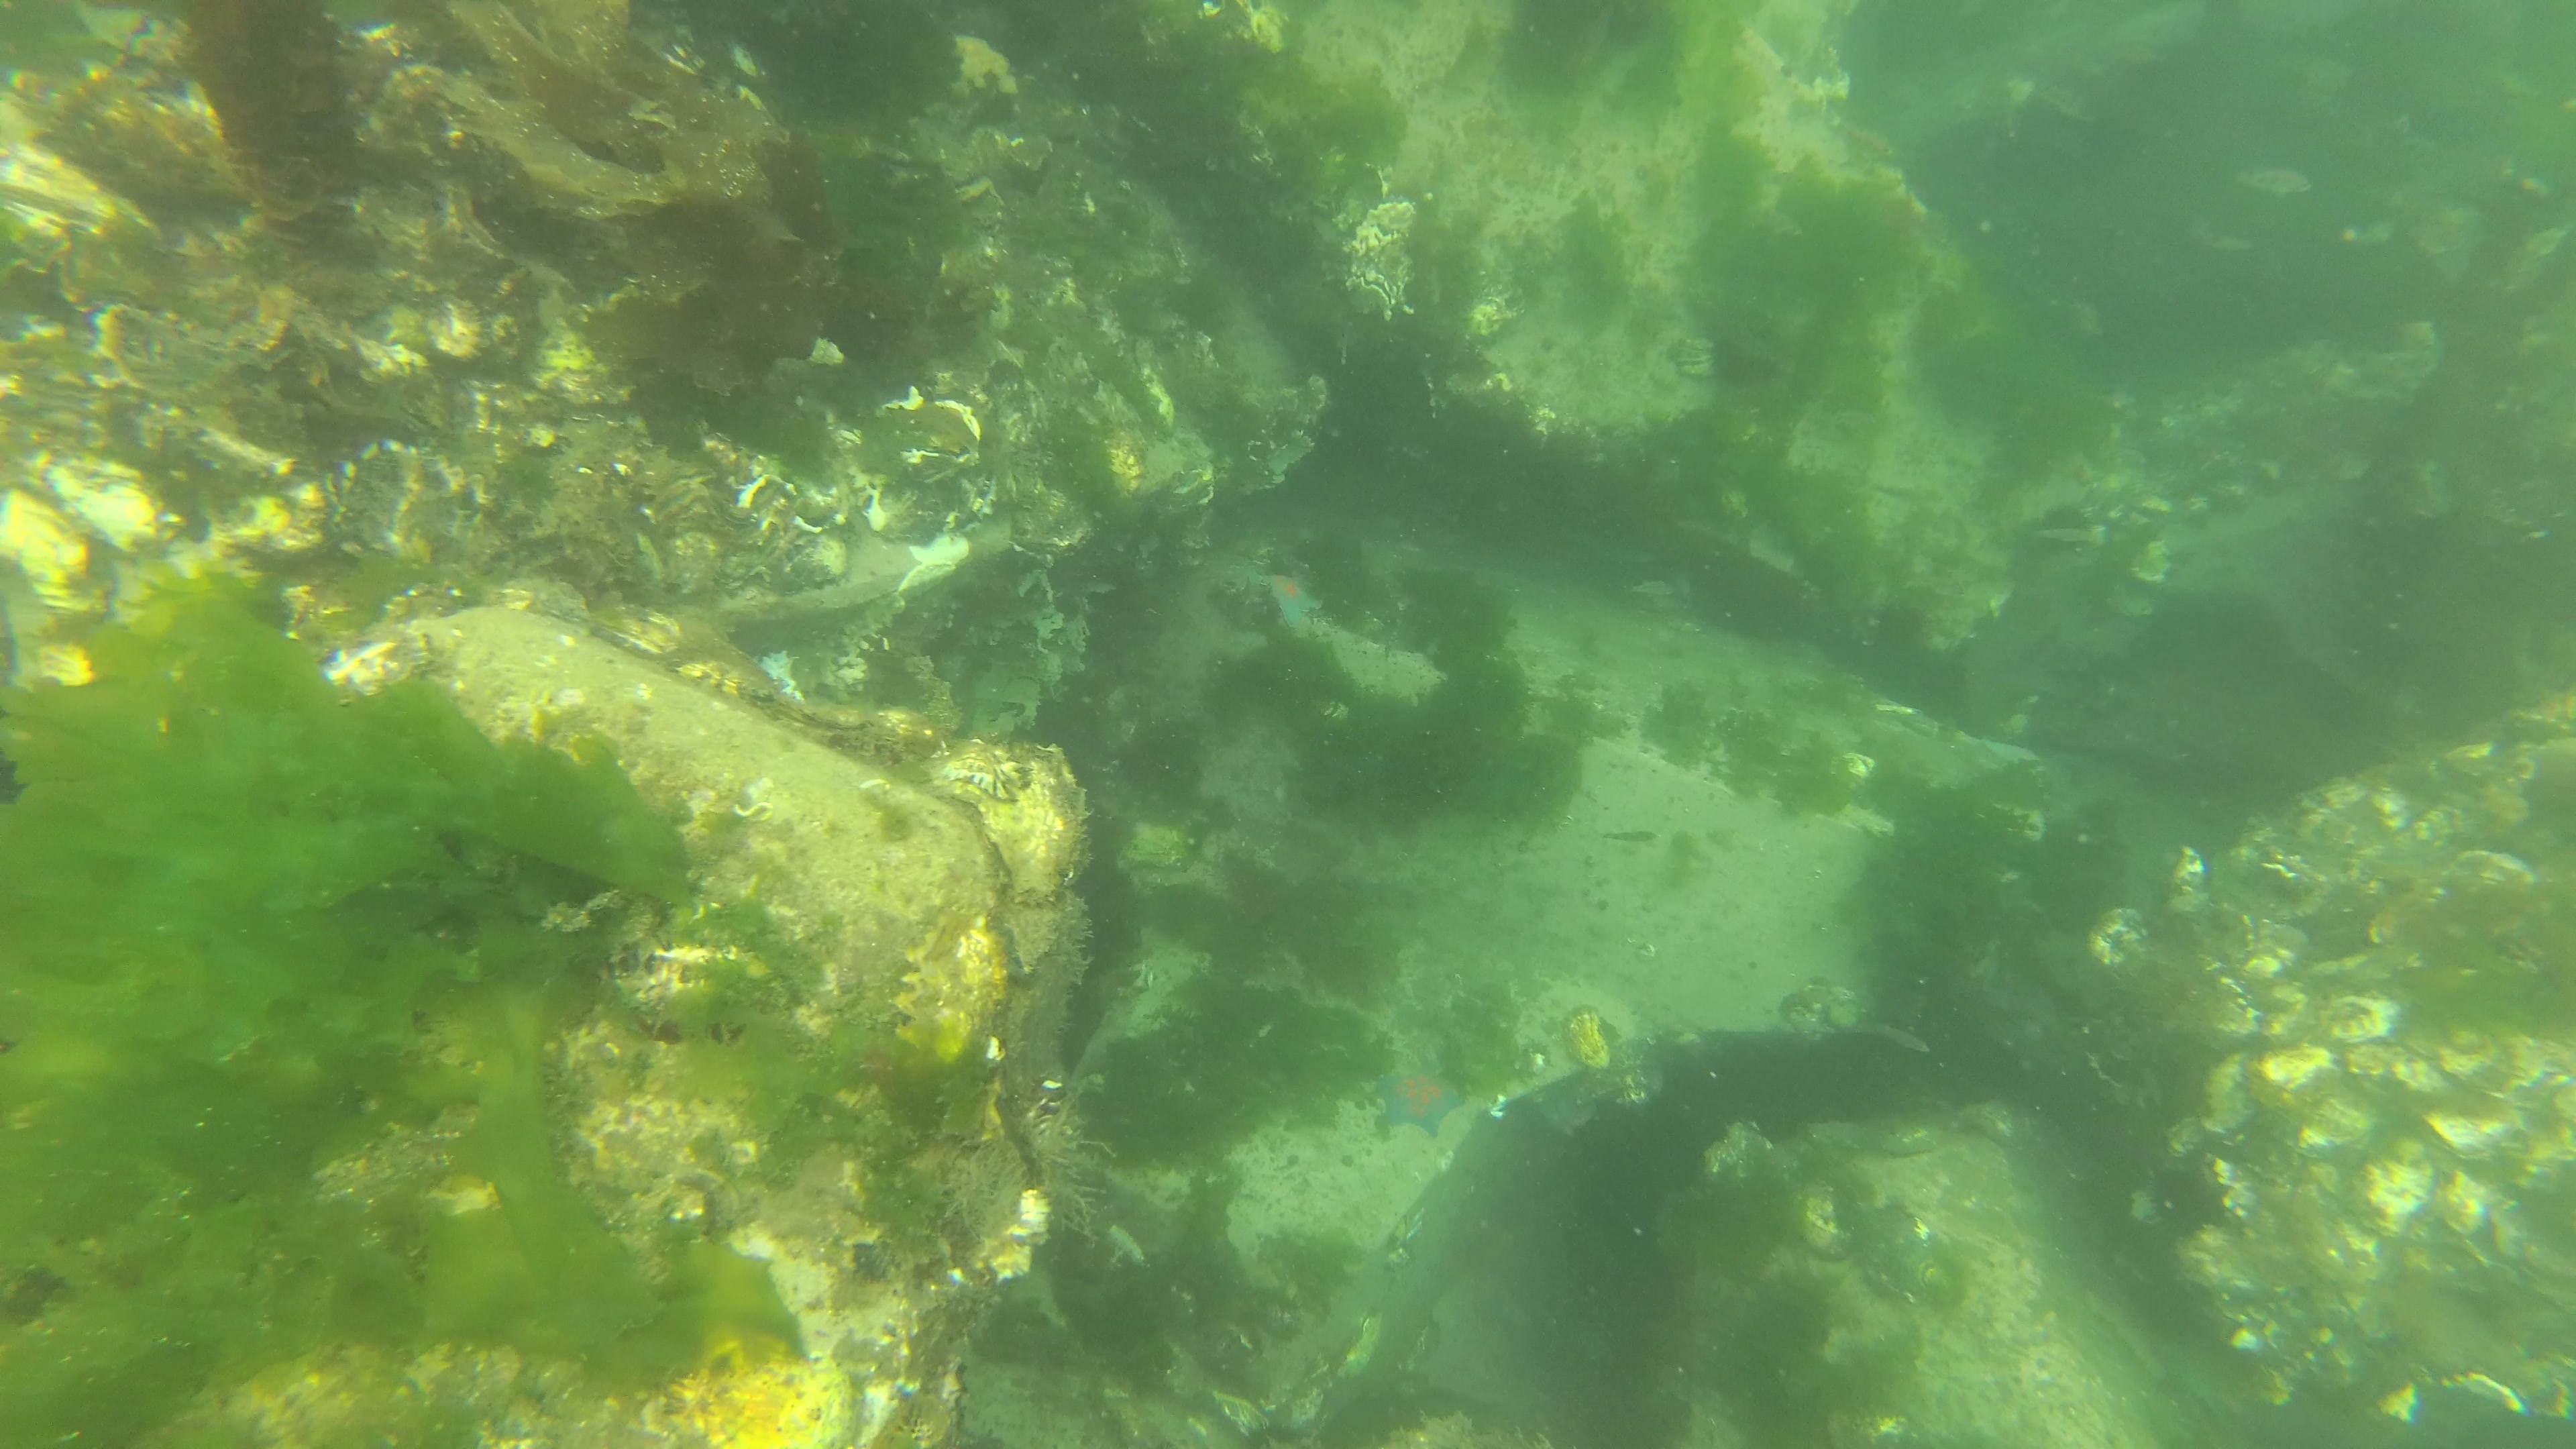starfish: (1369, 1056, 1470, 1141), (1240, 561, 1329, 633)
